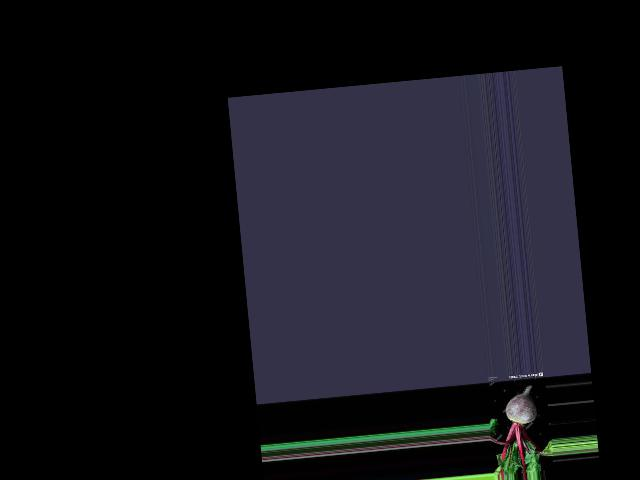beet: (485, 383, 554, 475)
